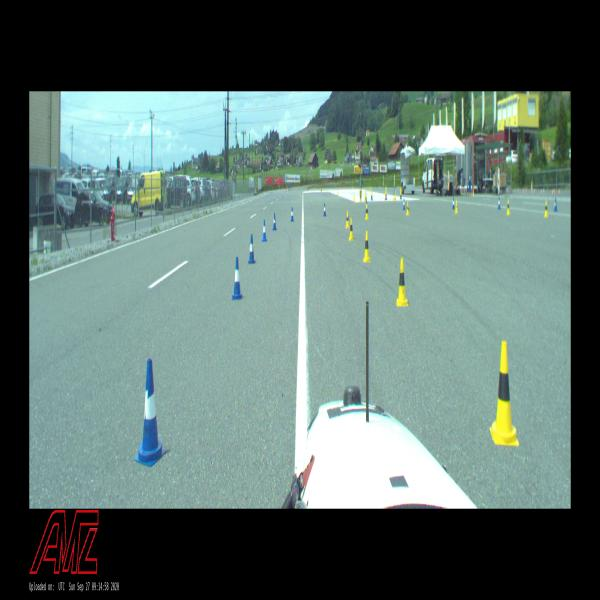blue_cone: (135, 359, 166, 467), (232, 257, 242, 299), (249, 235, 255, 262), (262, 220, 266, 241), (272, 213, 276, 230), (497, 195, 501, 209), (554, 198, 558, 211), (402, 198, 406, 210), (323, 203, 326, 216), (365, 200, 368, 213), (452, 197, 455, 209), (291, 207, 293, 221)
yellow_cone: (490, 342, 518, 446), (397, 259, 408, 306), (364, 231, 370, 261), (349, 218, 354, 240), (544, 200, 548, 217), (346, 211, 350, 228), (406, 202, 410, 215), (365, 204, 368, 219), (507, 200, 510, 215), (456, 200, 458, 213)
